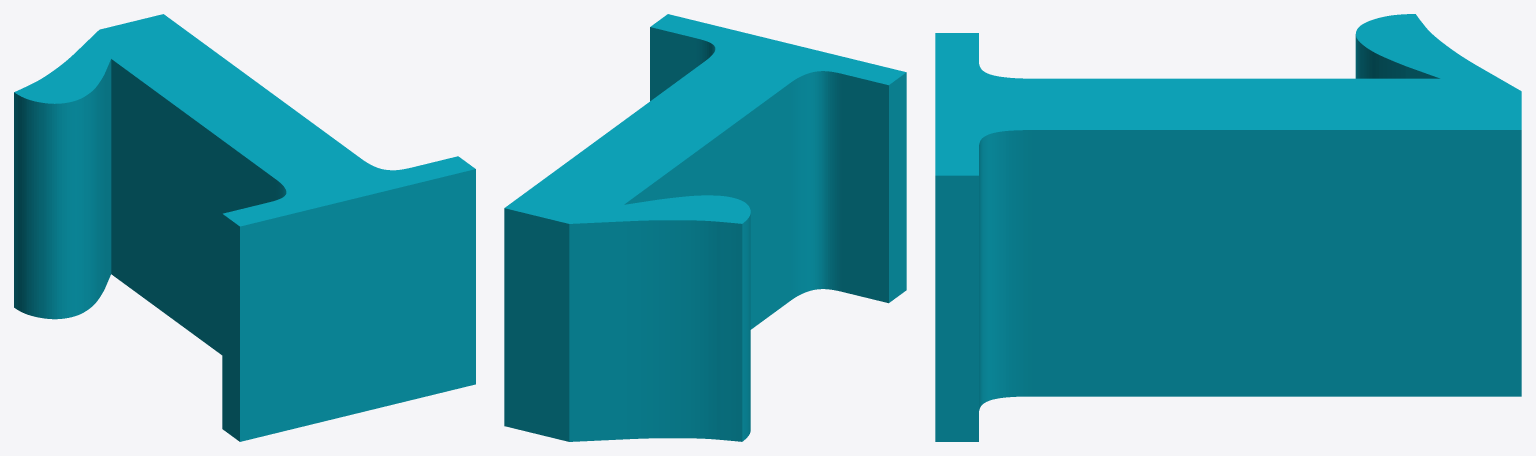
The picture shows the model from 3 angles, left to right: view 1: azimuth 30°, elevation 25°; view 2: azimuth 150°, elevation 25°; view 3: azimuth 270°, elevation 25°; orthographic projection. The views are drawn at different scales.
Parts seen in each view (by area): view 1: Mesh_Mesh_head_geo.001_lambert2SG.001; view 2: Mesh_Mesh_head_geo.001_lambert2SG.001; view 3: Mesh_Mesh_head_geo.001_lambert2SG.001.
Boxes of the visible parts, bbox=[...] form: Mesh_Mesh_head_geo.001_lambert2SG.001: bbox=[14, 14, 475, 441]; Mesh_Mesh_head_geo.001_lambert2SG.001: bbox=[504, 14, 906, 441]; Mesh_Mesh_head_geo.001_lambert2SG.001: bbox=[935, 14, 1521, 441].
Bounding box in the file's own units: 13 × 10 × 19.94.
